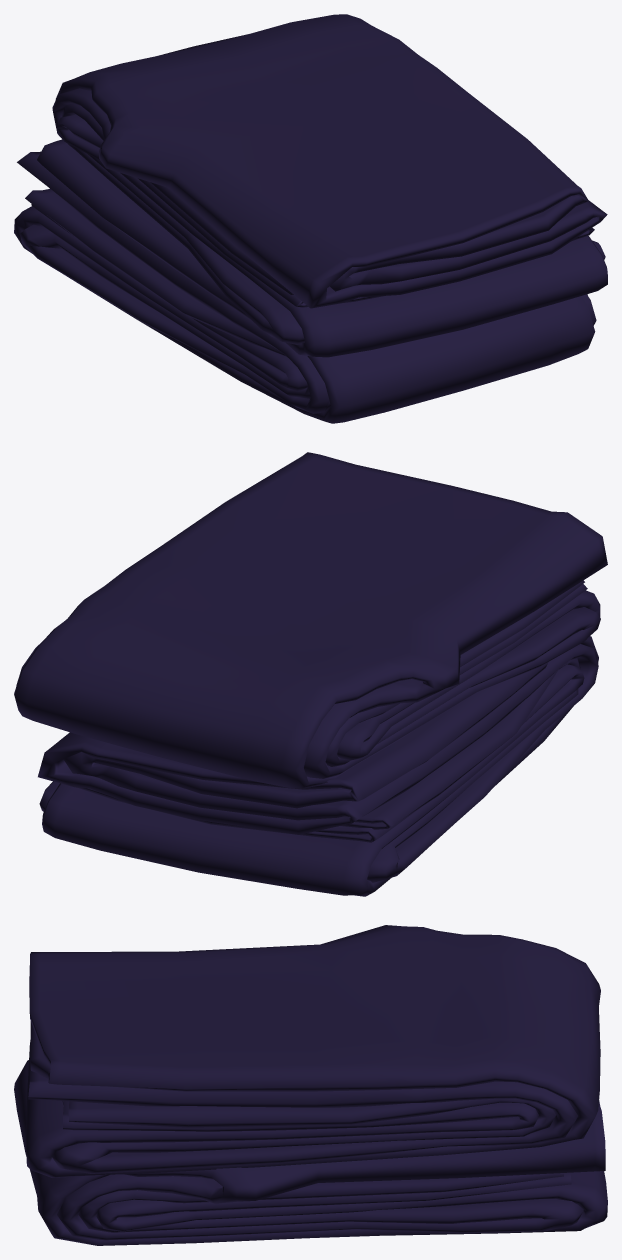
File: Folded_Pant02.fbx
3 renders of one model, top to bottom at view 1: azimuth 30°, elevation 25°; view 2: azimuth 150°, elevation 25°; view 3: azimuth 270°, elevation 25°, orthographic. The views are drawn at different scales.
Parts seen in each view (by area): view 1: Folded_Pant02; view 2: Folded_Pant02; view 3: Folded_Pant02.
Part boxes in pixels (<box>): Folded_Pant02: <box>14,14,607,423</box>; Folded_Pant02: <box>14,452,607,896</box>; Folded_Pant02: <box>14,925,607,1245</box>.
Bounding box in the file's own units: 25.03 × 11.51 × 34.5.
